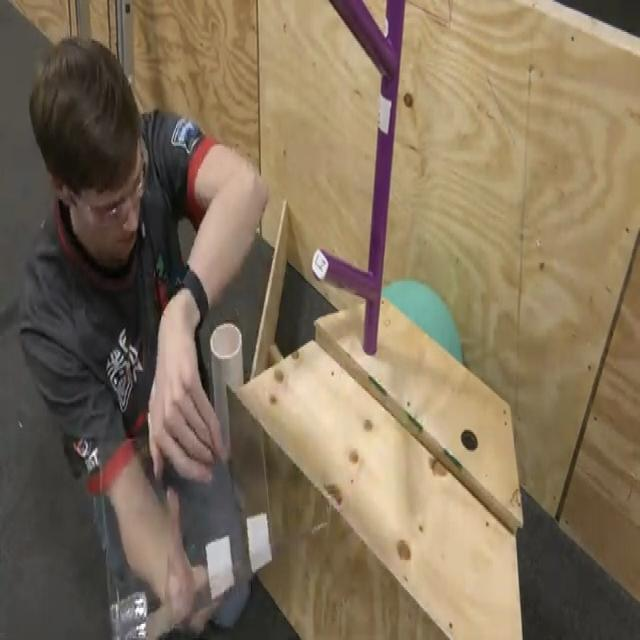Coral: (210, 324, 244, 464)
